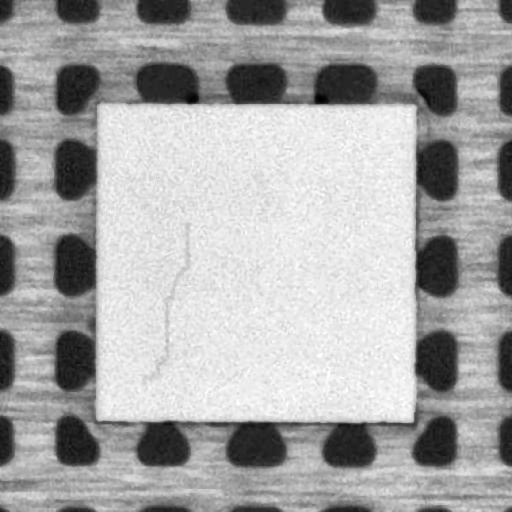DIE_CRACK: (144, 226, 190, 378)
